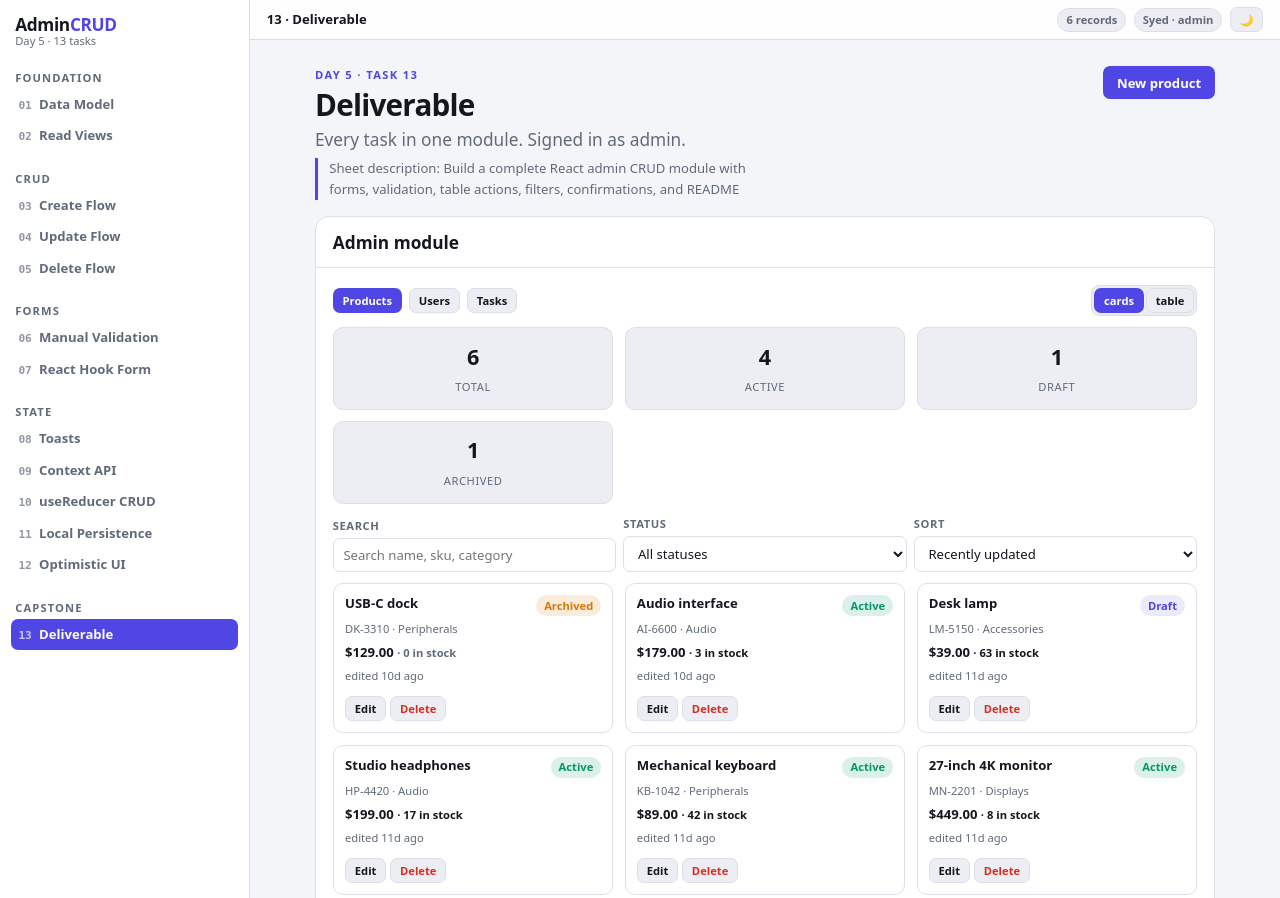
task 13 — the deliverable › switches entity and clears the search
Expected: the text "Day 5 · Task 13" is shown, [315,67,418,82]
Type "keyboard" into the search field labelled "Search". click: (474, 555)
box: [333,538,616,572]
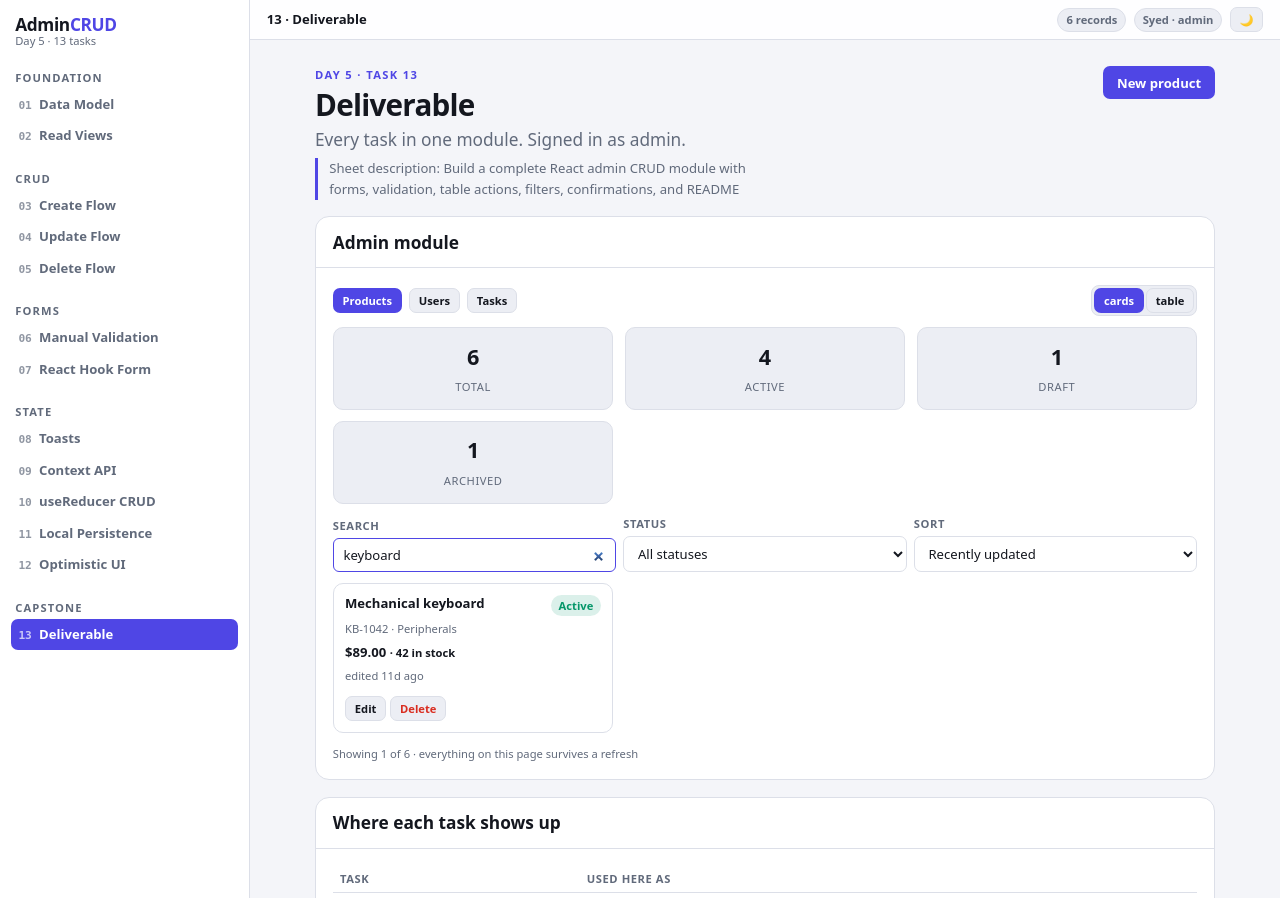
Click the button "Users". click: (434, 301)
box: [409,288,460,313]
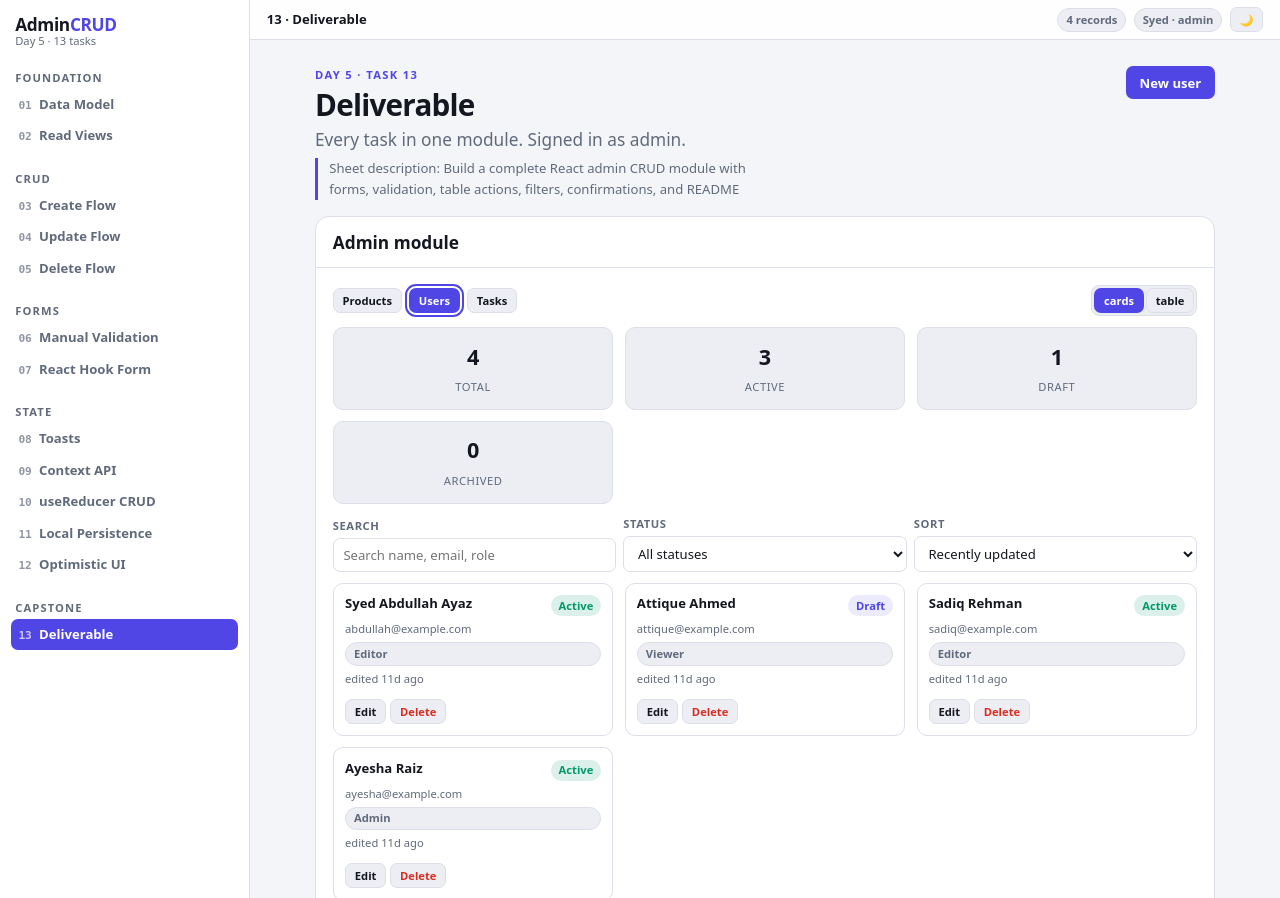
Now the search field labelled "Search" is empty, box [333,538,616,572]
Now the text "Ayesha Raiz" is shown, box [345,760,423,777]
